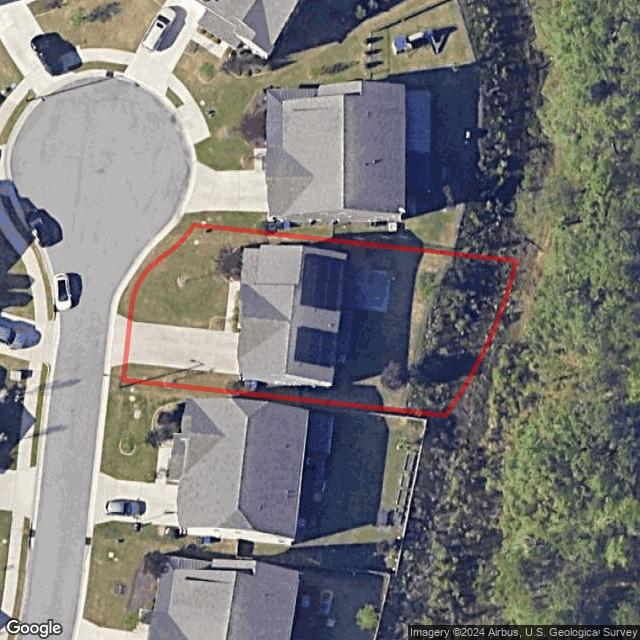Driveway: (126, 319, 241, 375)
Extra-Driveway: (111, 314, 130, 366)
Extra-Lawn: (117, 224, 195, 318), (110, 364, 125, 381)
House: (238, 244, 349, 388)
Lawn: (123, 224, 516, 415)
Other: (402, 256, 516, 416), (350, 271, 396, 314), (214, 247, 244, 283), (233, 290, 243, 333), (209, 317, 226, 332)
Sidewalk: (224, 282, 242, 332)
